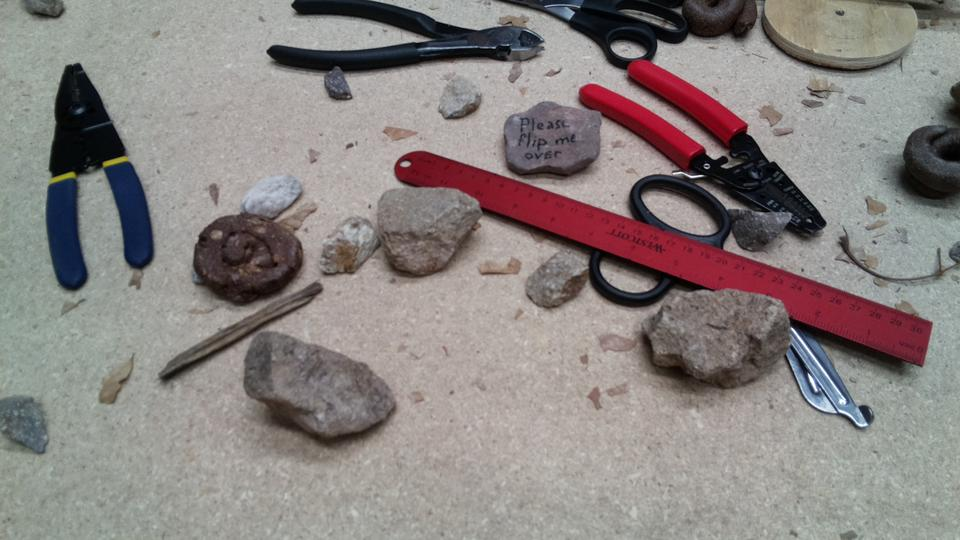poop: (190, 210, 307, 305), (903, 121, 960, 199), (682, 1, 760, 40)
